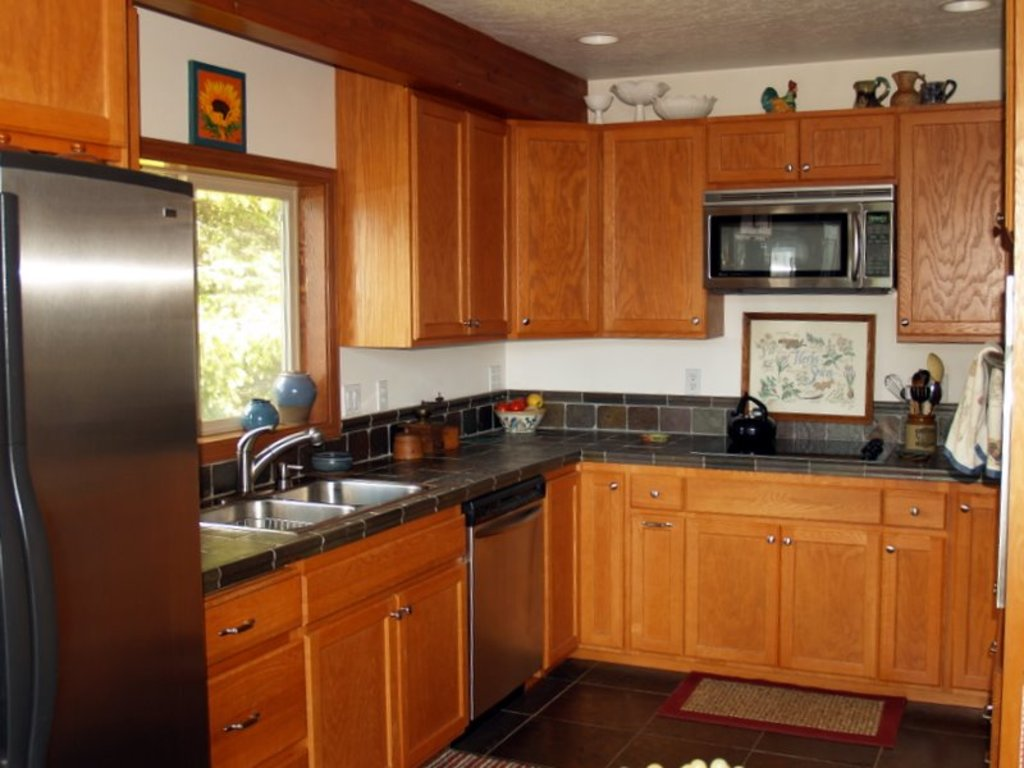cabinet door: (902, 118, 1009, 331), (606, 135, 705, 333), (510, 125, 595, 337), (410, 95, 470, 331), (783, 530, 868, 670), (642, 475, 877, 522), (399, 592, 468, 742), (312, 627, 382, 768), (699, 523, 771, 660), (467, 124, 511, 339), (962, 502, 1005, 679), (211, 676, 294, 757), (889, 537, 934, 676), (585, 468, 615, 651), (631, 509, 670, 647), (802, 124, 898, 175), (715, 130, 796, 179), (206, 601, 296, 639), (891, 494, 938, 528)
handle: (4, 189, 63, 768), (215, 614, 259, 637), (222, 715, 260, 735), (641, 517, 671, 530), (781, 528, 797, 550), (402, 601, 418, 622), (601, 480, 619, 498), (763, 527, 777, 548), (518, 309, 532, 330), (386, 605, 399, 627), (883, 539, 898, 558), (906, 500, 920, 519), (958, 501, 974, 516), (646, 489, 663, 502)
refrigerator door: (2, 157, 191, 757)
